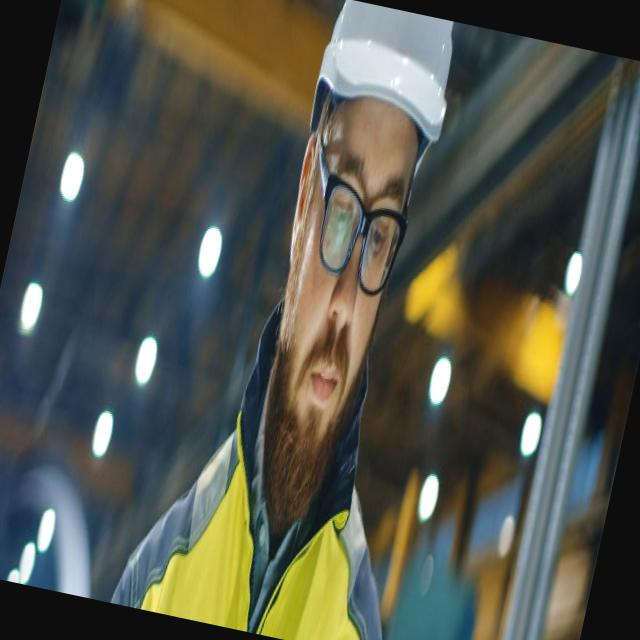goggles: (279, 112, 434, 322)
helmet: (295, 0, 465, 195)
no-vest: (106, 358, 449, 640)
